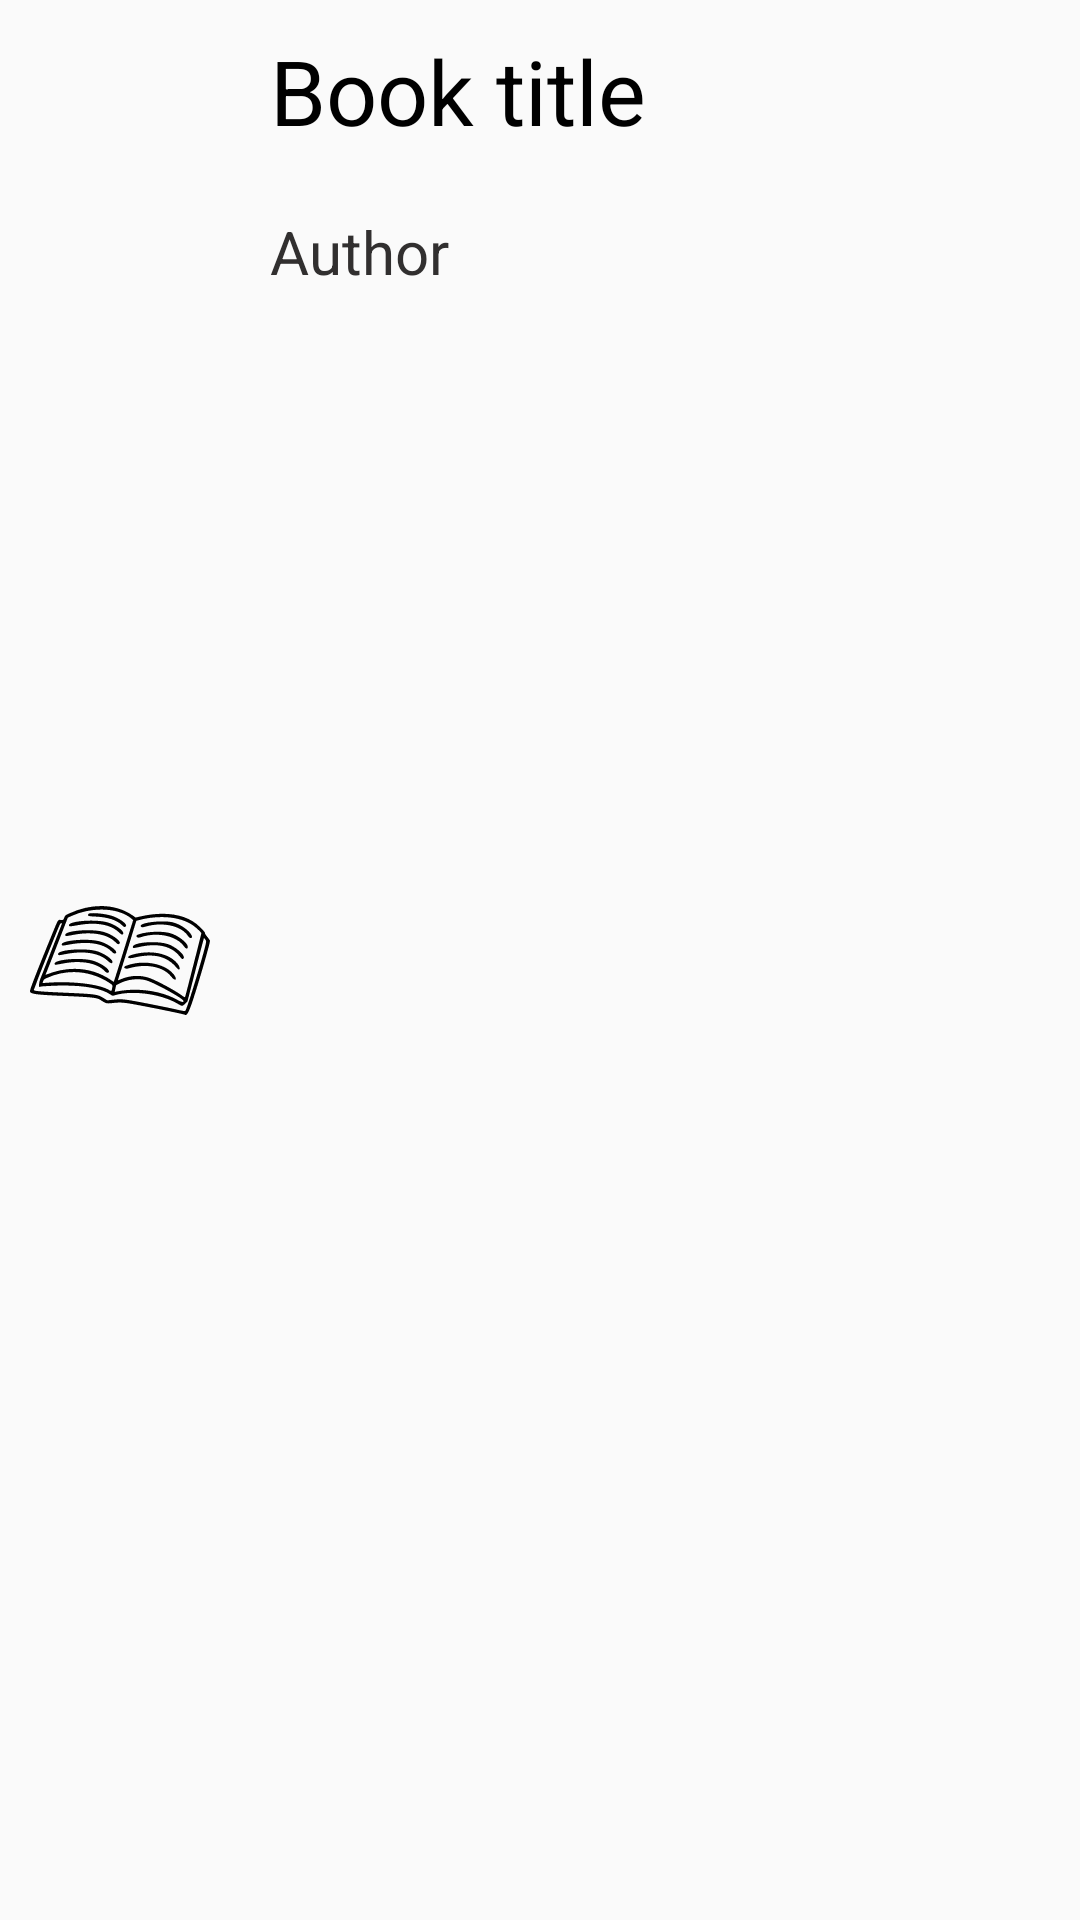

Named icons in this screenshot (1080x1920) and their bounding boxes, (x1, y1, x2, y2):
simplebook: (30, 906, 210, 1015)
